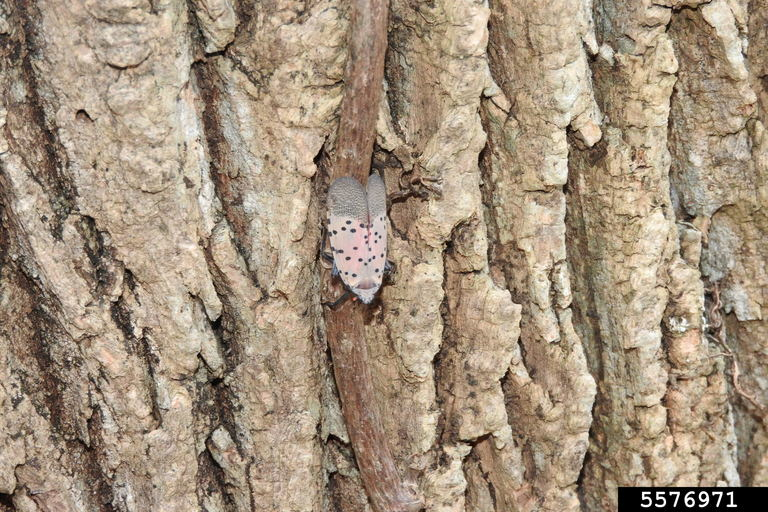adult: (328, 176, 392, 308)
